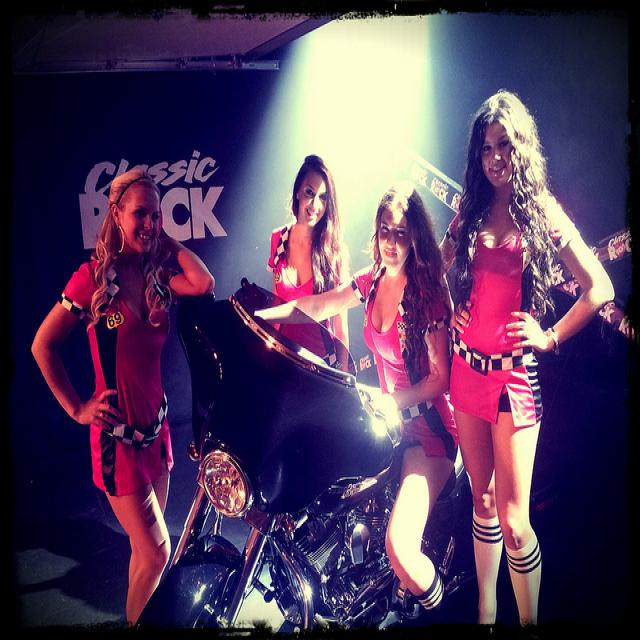motor: (140, 286, 478, 627)
